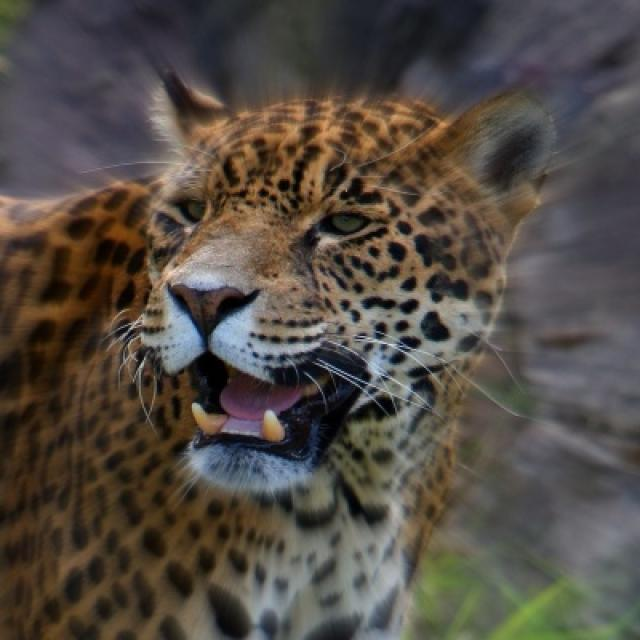Jaguar: (0, 75, 552, 638)
